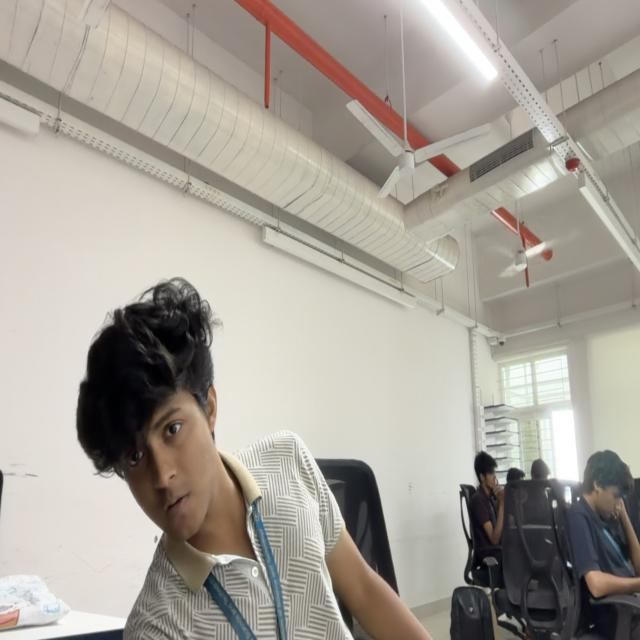kshitij: (77, 278, 219, 544)
